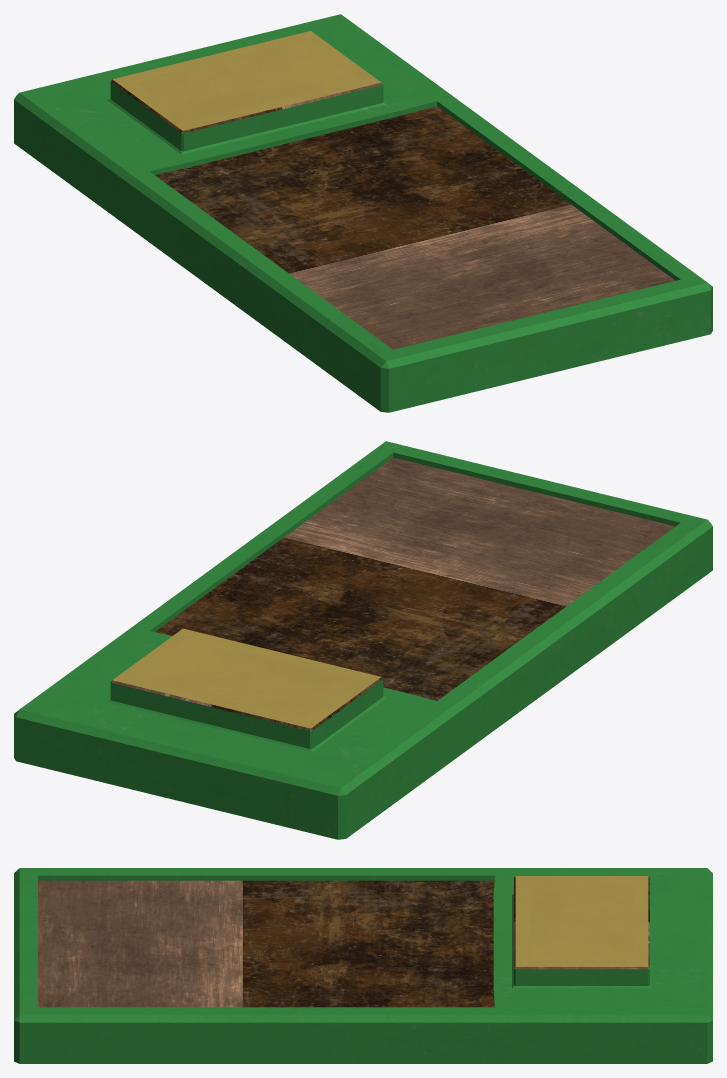
File: Grave_2.fbx
3 views of the same model, one above another, from view 1: azimuth 30°, elevation 25°; view 2: azimuth 150°, elevation 25°; view 3: azimuth 270°, elevation 25° (orthographic). The views are drawn at different scales.
Parts seen in each view (by area): view 1: Grave_2; view 2: Grave_2; view 3: Grave_2.
Part boxes in pixels (x1,y1,x2,y2): Grave_2: (14, 14, 712, 412); Grave_2: (14, 441, 712, 839); Grave_2: (14, 868, 712, 1063).
Size of the model in its own units: 124 by 25.37 by 242.
